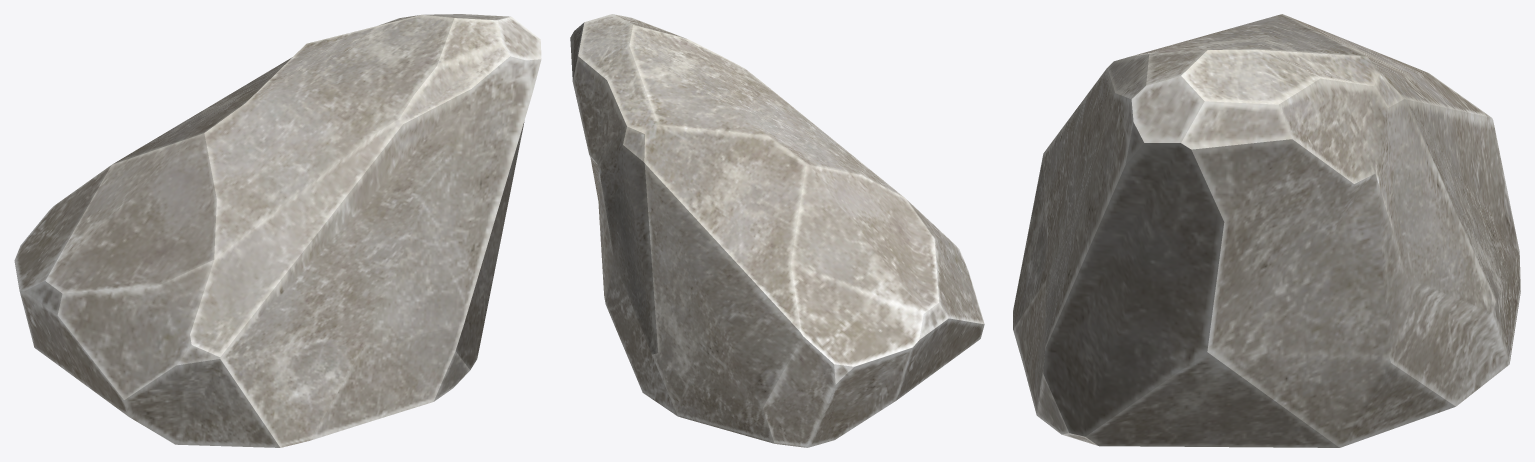
Rendered from round_rock_5_dream.glb.
3 renders of one model, left to right at view 1: azimuth 30°, elevation 25°; view 2: azimuth 150°, elevation 25°; view 3: azimuth 270°, elevation 25°, orthographic. The views are drawn at different scales.
Parts seen in each view (by area): view 1: round_rock_5; view 2: round_rock_5; view 3: round_rock_5.
Part boxes in pixels (x1,y1,x2,y2): round_rock_5: (14, 14, 541, 447); round_rock_5: (570, 14, 984, 447); round_rock_5: (1013, 14, 1520, 447).
Size of the model in its own units: 5.47 by 3.69 by 3.99.
Materials: 1 (1 with a texture image).
